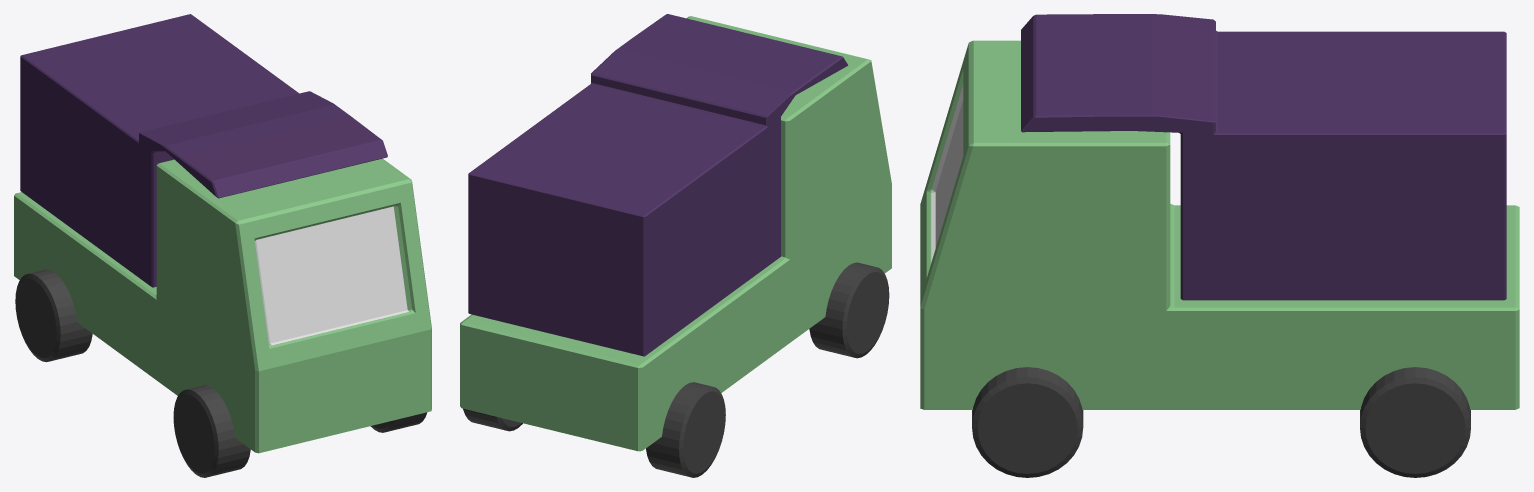
File: ToyTruck_1_Props.fbx
The picture shows the model from 3 angles, left to right: view 1: azimuth 30°, elevation 25°; view 2: azimuth 150°, elevation 25°; view 3: azimuth 270°, elevation 25°; orthographic projection. The views are drawn at different scales.
Parts seen in each view (by area): view 1: TruckBody, TruckBack, TruckTire, TruckTire.001, TruckTire.002; view 2: TruckBack, TruckBody, TruckTire, TruckTire.001, TruckTire.003; view 3: TruckBody, TruckBack, TruckTire.002, TruckTire.003.
Part boxes in pixels (x1,y1,x2,y2): TruckBody: (14,158,431,453); TruckBack: (20,14,387,287); TruckTire: (173,385,250,477); TruckTire.001: (15,269,92,362); TruckTire.002: (370,412,427,432); TruckBack: (468,14,848,356); TruckBody: (460,16,891,451); TruckTire: (809,262,889,358); TruckTire.001: (646,382,725,477); TruckTire.003: (463,408,522,431); TruckBody: (920,40,1519,409); TruckBack: (1021,14,1506,300); TruckTire.002: (972,367,1083,477); TruckTire.003: (1360,367,1470,477).
Size of the model in its own units: 80.86 by 104 by 160.
